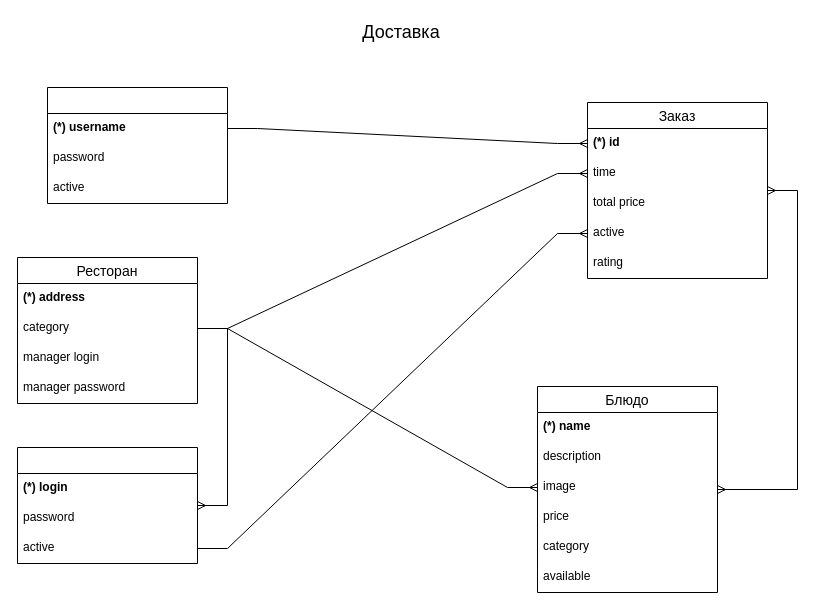
The diagram is 824 pixels wide and 612 high, and some of its shapes have lost their labels. The shapes that lost their labels are listed below. From the top down, each one's box as (x1, y1, x2, y2) in pixels, then its label:
(46, 86, 228, 204): Клиент
(16, 446, 198, 564): Сотрудник
